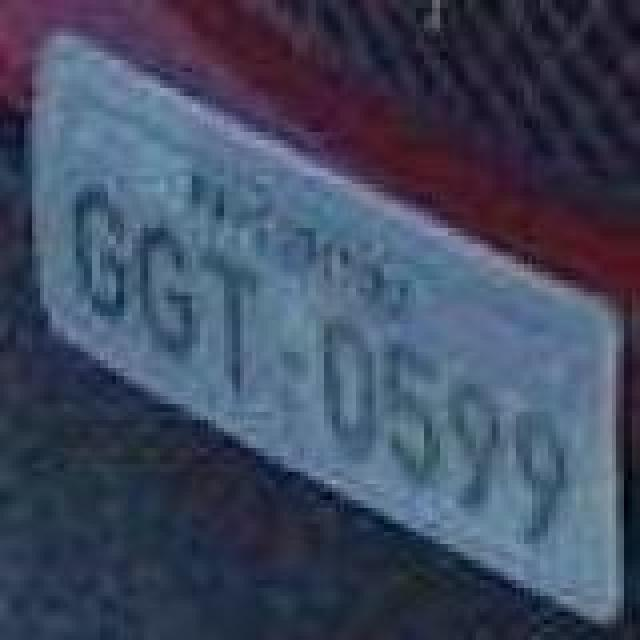5: (380, 346, 444, 486)
9: (448, 378, 512, 518), (514, 410, 574, 550)
G: (66, 186, 134, 326), (134, 234, 202, 358)
O: (318, 314, 386, 454)
T: (202, 246, 262, 394)
